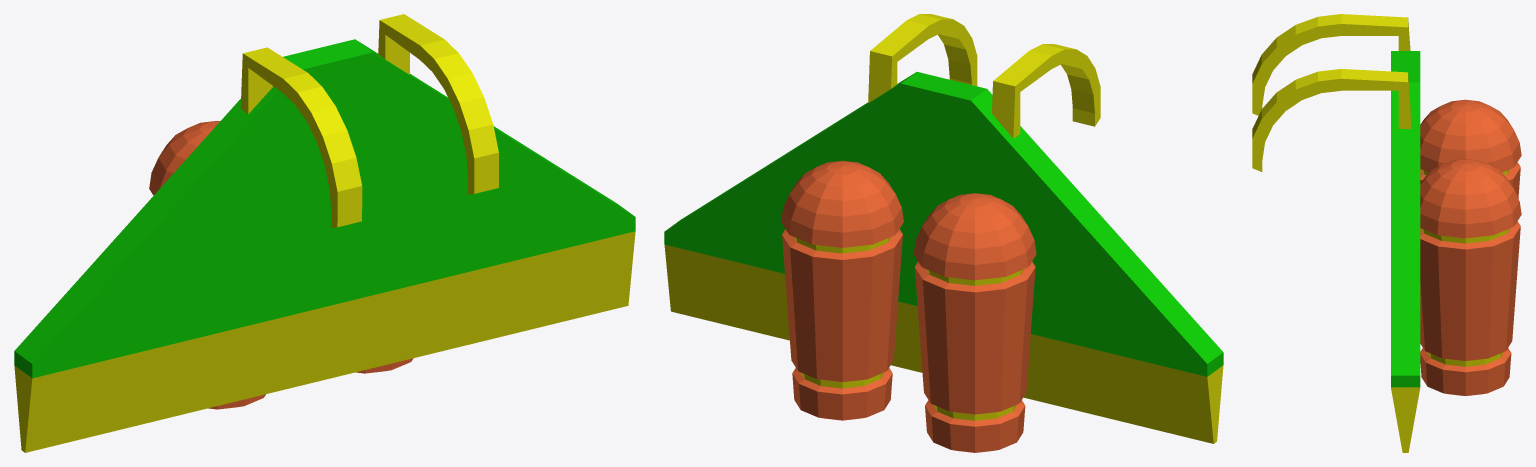
File: road glider.fbx
3 renders of one model, left to right at view 1: azimuth 30°, elevation 25°; view 2: azimuth 150°, elevation 25°; view 3: azimuth 270°, elevation 25°, orthographic. The views are drawn at different scales.
Parts seen in each view (by area): view 1: Cube.001; view 2: Cube.001; view 3: Cube.001.
Part boxes in pixels (x1,y1,x2,y2): Cube.001: (14, 14, 635, 452); Cube.001: (664, 14, 1223, 452); Cube.001: (1252, 14, 1521, 452).
Bounding box in the file's own units: 4894 × 2883 × 2302.
